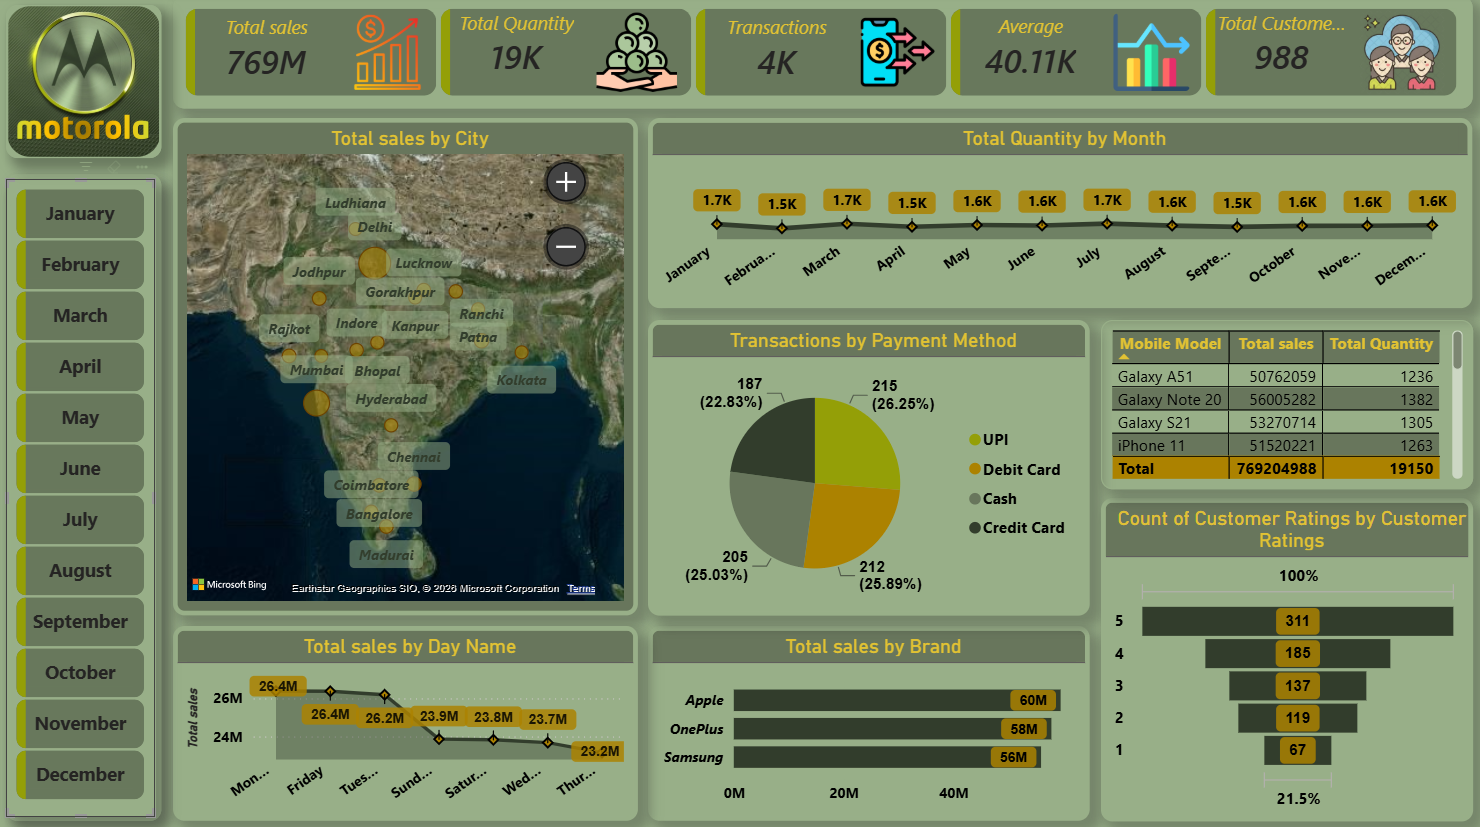

The page's visual inventory and layout, read from the dashboard file:
{"tool":"powerbi","page":{"name":"Page 1","canvas":[1280,720],"ordinal":0},"visuals":[{"type":"shape","box":[7.8,153.5,133.7,558.1],"z":0},{"type":"advancedSlicerVisual","fields":{"Values":["Mobile_sales_data.Date.Variation.Date Hierarchy.Month"]},"box":[7.8,157.8,128.5,550.3],"z":1000},{"type":"cardVisual","fields":{"Data":["Mobile_sales_data.Total sales","Mobile_sales_data.Total Quantity","Mobile_sales_data.Transactions","Mobile_sales_data.Average","Mobile_sales_data.Total Customers"]},"box":[151.8,0,1120.9,97.3],"z":2000},{"type":"image","box":[7.8,7.8,133.7,132],"z":3000},{"type":"map","fields":{"Category":["Mobile_sales_data.City"],"Size":["Mobile_sales_data.Total sales"]},"box":[151.8,105.5,400.9,429.1],"z":4000},{"type":"lineChart","fields":{"Category":["Mobile_sales_data.Date.Variation.Date Hierarchy.Month","Mobile_sales_data.Date.Variation.Date Hierarchy.Day"],"Y":["Mobile_sales_data.Total Quantity"]},"box":[561.8,105.5,710.9,163.6],"z":5000},{"type":"clusteredBarChart","fields":{"Category":["Mobile_sales_data.Brand"],"Y":["Mobile_sales_data.Total sales"]},"box":[561.8,543.6,380.9,168.2],"z":6000},{"type":"pieChart","fields":{"Y":["Mobile_sales_data.Transactions"],"Category":["Mobile_sales_data.Payment Method"]},"box":[561.8,279.1,380.9,255.5],"z":7000},{"type":"funnel","fields":{"Category":["Mobile_sales_data.Customer Ratings"],"Y":["CountNonNull(Mobile_sales_data.Customer Ratings)"]},"box":[951.8,432.7,320.9,279.1],"z":8000},{"type":"areaChart","fields":{"Category":["Mobile_sales_data.Day Name"],"Y":["Mobile_sales_data.Total sales"]},"box":[151.8,543.6,400.9,168.2],"z":9000},{"type":"tableEx","fields":{"Values":["Mobile_sales_data.Mobile Model","Mobile_sales_data.Total sales","Mobile_sales_data.Total Quantity"]},"box":[951.8,279.1,320.9,146.4],"z":10000}]}

Visuals, with their boxes in screenshot pixels (x1, y1, x2, y2), scaled from the page's 1280x720 canvas onto the 1480x827 screenshot:
shape: bbox=(9, 176, 164, 817)
advancedSlicerVisual - Mobile_sales_data.Date.Variation.Date Hierarchy.Month: bbox=(9, 181, 158, 813)
cardVisual - Mobile_sales_data.Total sales x Mobile_sales_data.Total Quantity: bbox=(176, 0, 1472, 112)
image: bbox=(9, 9, 164, 161)
map - Mobile_sales_data.City x Mobile_sales_data.Total sales: bbox=(176, 121, 639, 614)
lineChart - Mobile_sales_data.Date.Variation.Date Hierarchy.Month x Mobile_sales_data.Date.Variation.Date Hierarchy.Day: bbox=(650, 121, 1472, 309)
clusteredBarChart - Mobile_sales_data.Brand x Mobile_sales_data.Total sales: bbox=(650, 624, 1090, 818)
pieChart - Mobile_sales_data.Transactions x Mobile_sales_data.Payment Method: bbox=(650, 321, 1090, 614)
funnel - Mobile_sales_data.Customer Ratings x CountNonNull(Mobile_sales_data.Customer Ratings): bbox=(1101, 497, 1472, 818)
areaChart - Mobile_sales_data.Day Name x Mobile_sales_data.Total sales: bbox=(176, 624, 639, 818)
tableEx - Mobile_sales_data.Mobile Model x Mobile_sales_data.Total sales: bbox=(1101, 321, 1472, 489)
